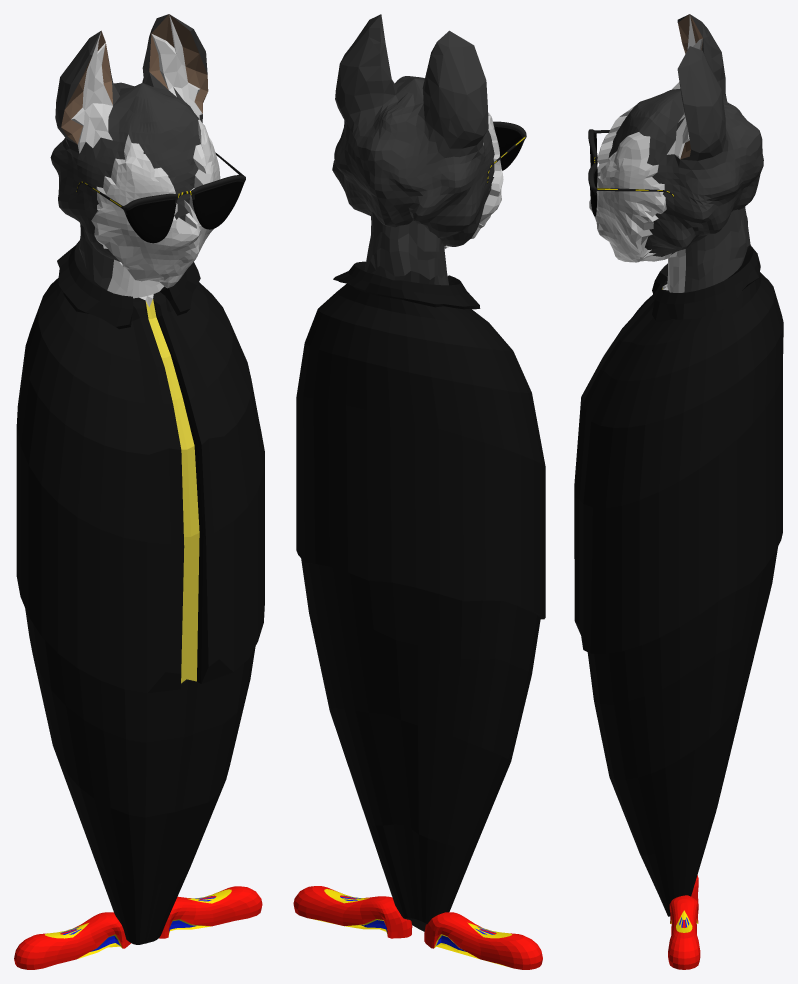
File: Person.fbx
3 views of the same model, side by side, from view 1: azimuth 30°, elevation 25°; view 2: azimuth 150°, elevation 25°; view 3: azimuth 270°, elevation 25° (orthographic). The views are drawn at different scales.
Parts seen in each view (by area): view 1: Cylinder, Sphere, Sphere.001, Cube; view 2: Cylinder, Sphere, Sphere.001, Cube; view 3: Cylinder, Sphere, Sphere.001, Cube.
Boxes of the visible parts, <box> form: Cylinder: <box>16,223,264,944</box>; Sphere: <box>50,14,220,288</box>; Sphere.001: <box>14,886,262,969</box>; Cube: <box>76,152,245,243</box>; Cylinder: <box>296,211,545,931</box>; Sphere: <box>332,14,503,248</box>; Sphere.001: <box>293,886,542,969</box>; Cube: <box>487,121,526,183</box>; Cylinder: <box>574,207,783,916</box>; Sphere: <box>589,14,763,262</box>; Sphere.001: <box>668,875,700,969</box>; Cube: <box>588,129,674,216</box>.
Bounding box in the file's own units: 74.68 × 267 × 57.31.
